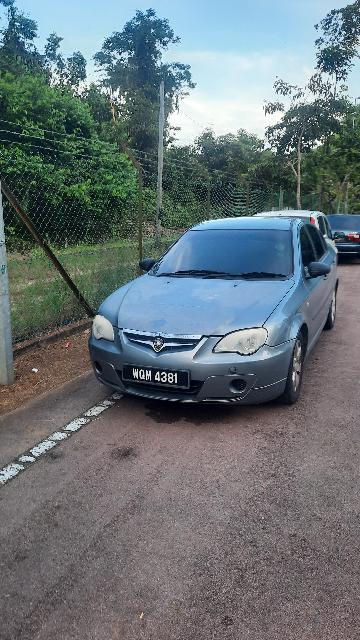License_Plate: (121, 361, 195, 394)
car: (87, 211, 343, 415)
